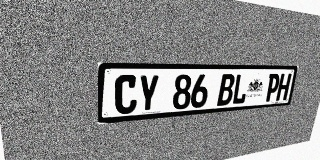6: (190, 74, 210, 108)
8: (172, 74, 193, 110)
B: (217, 74, 236, 106)
C: (114, 75, 138, 115)
H: (276, 74, 292, 101)
L: (231, 74, 249, 105)
P: (264, 74, 281, 102)
Y: (137, 75, 159, 113)
